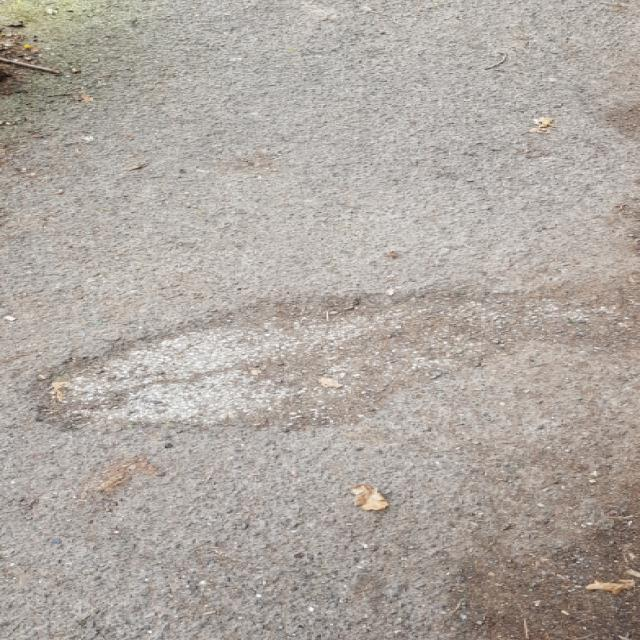pothole: (26, 284, 638, 433)
